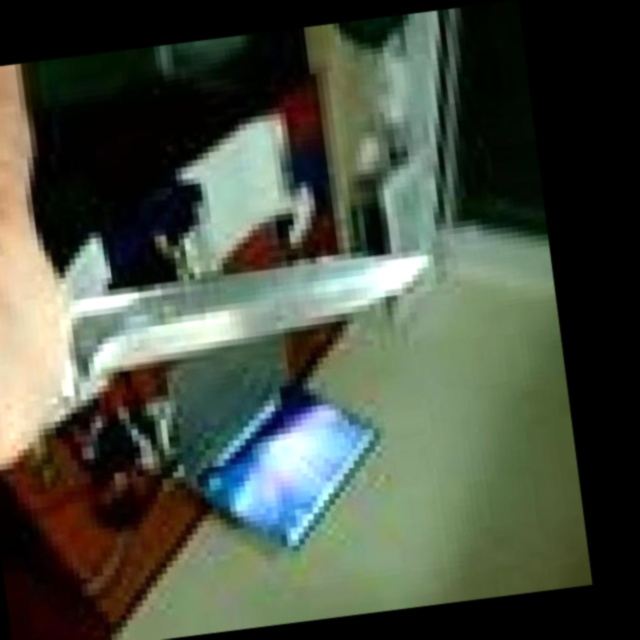Sharp-Object: (48, 246, 438, 403)
